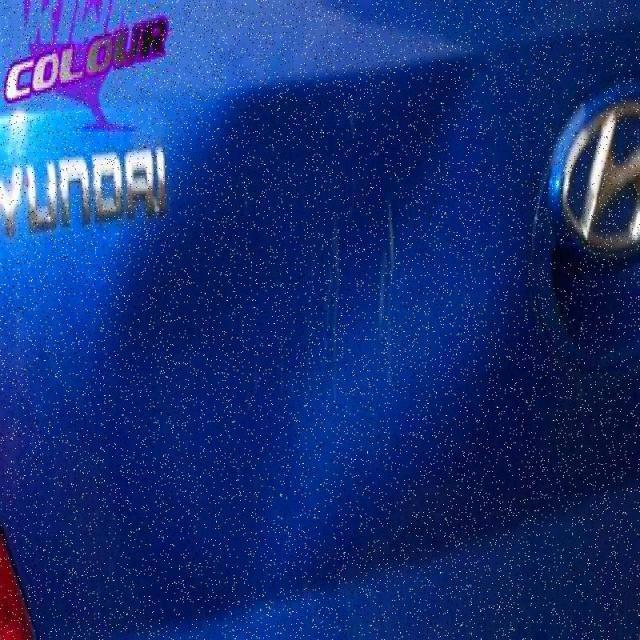dent: (170, 78, 438, 489)
